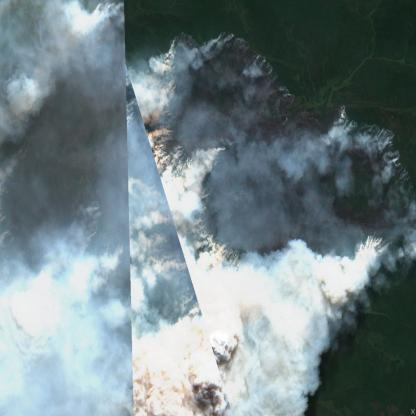fire: (168, 25, 300, 113), (332, 102, 416, 212), (190, 222, 247, 275), (182, 138, 231, 182), (149, 120, 181, 171), (351, 230, 394, 262)
